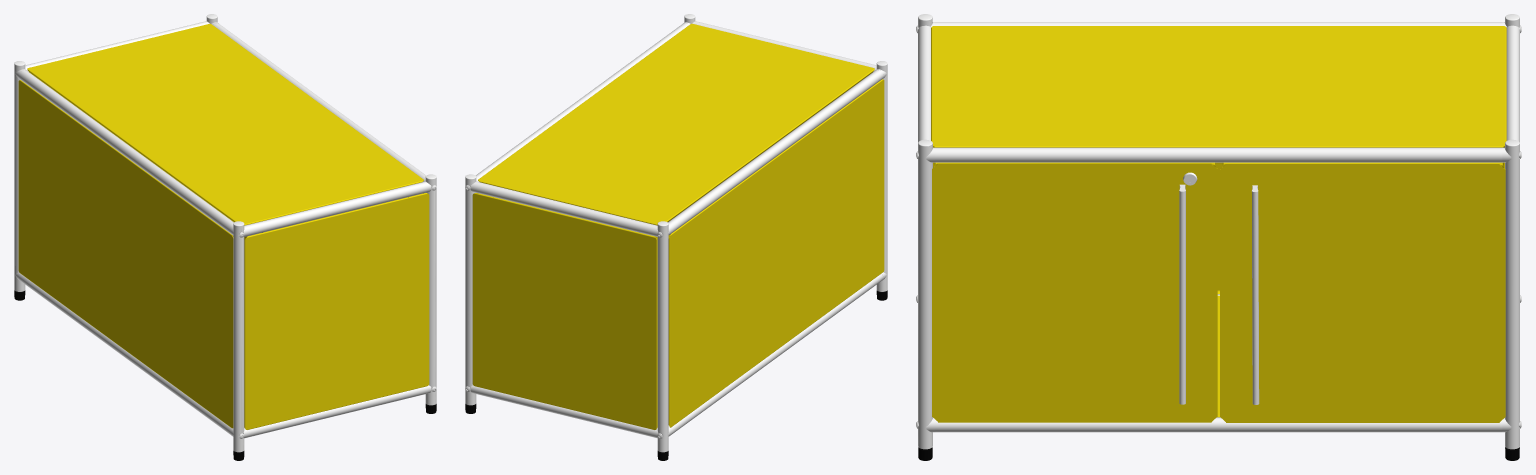
File: 80x40x40-1-7-yellow_optimized_optimized.glb
3 renders of one model, left to right at view 1: azimuth 30°, elevation 25°; view 2: azimuth 150°, elevation 25°; view 3: azimuth 270°, elevation 25°, orthographic. The views are drawn at different scales.
Visible parts, largest first — view 1: 直角鐵板-80x40-5 - 零件, new-上塞-1 - 零件; view 2: 直角鐵板-80x40-5 - 零件, new-上塞-1 - 零件; view 3: 直角鐵板-80x40-5 - 零件, new-上塞-1 - 零件.
Boxes of the visible parts, bbox=[...] form: 直角鐵板-80x40-5 - 零件: bbox=[18, 23, 429, 429]; new-上塞-1 - 零件: bbox=[14, 14, 436, 452]; 直角鐵板-80x40-5 - 零件: bbox=[472, 23, 884, 429]; new-上塞-1 - 零件: bbox=[465, 14, 887, 452]; 直角鐵板-80x40-5 - 零件: bbox=[931, 26, 1506, 422]; new-上塞-1 - 零件: bbox=[916, 14, 1521, 449].
Size of the model in its own units: 0.4203 by 0.4453 by 0.7732.
